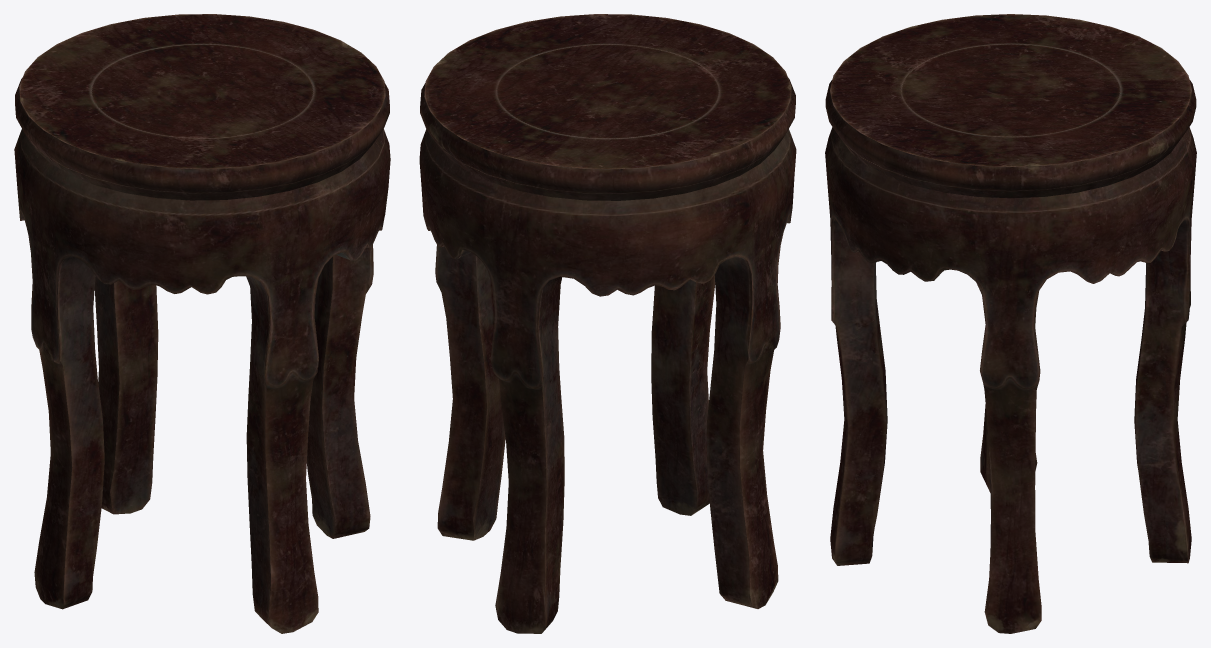
File: WoodenTable_02.gltf
3 views of the same model, side by side, from view 1: azimuth 30°, elevation 25°; view 2: azimuth 150°, elevation 25°; view 3: azimuth 270°, elevation 25° (orthographic).
Visible parts, largest first — view 1: WoodenTable_02; view 2: WoodenTable_02; view 3: WoodenTable_02.
Boxes of the visible parts, x1,y1,x2,y2 form: WoodenTable_02: [14, 14, 390, 633]; WoodenTable_02: [419, 14, 796, 633]; WoodenTable_02: [825, 14, 1196, 633].
Bounding box in the file's own units: 0.3007 × 0.4177 × 0.3007.
Materials: 1 (1 with a texture image).
